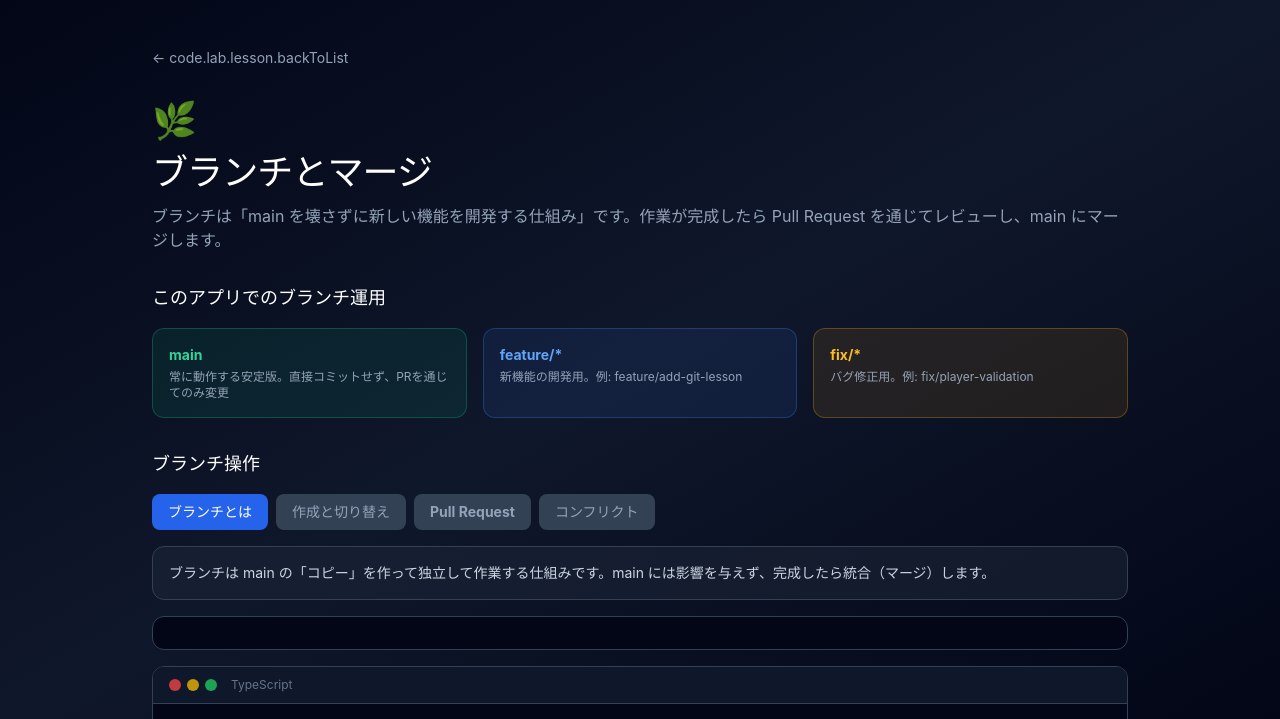
Test case: GitBranchLesson interactions › should switch to Create & Switch view
Click the button "作成と切り替え" at (341, 512), box top-left (276, 494), bottom-right (406, 530)
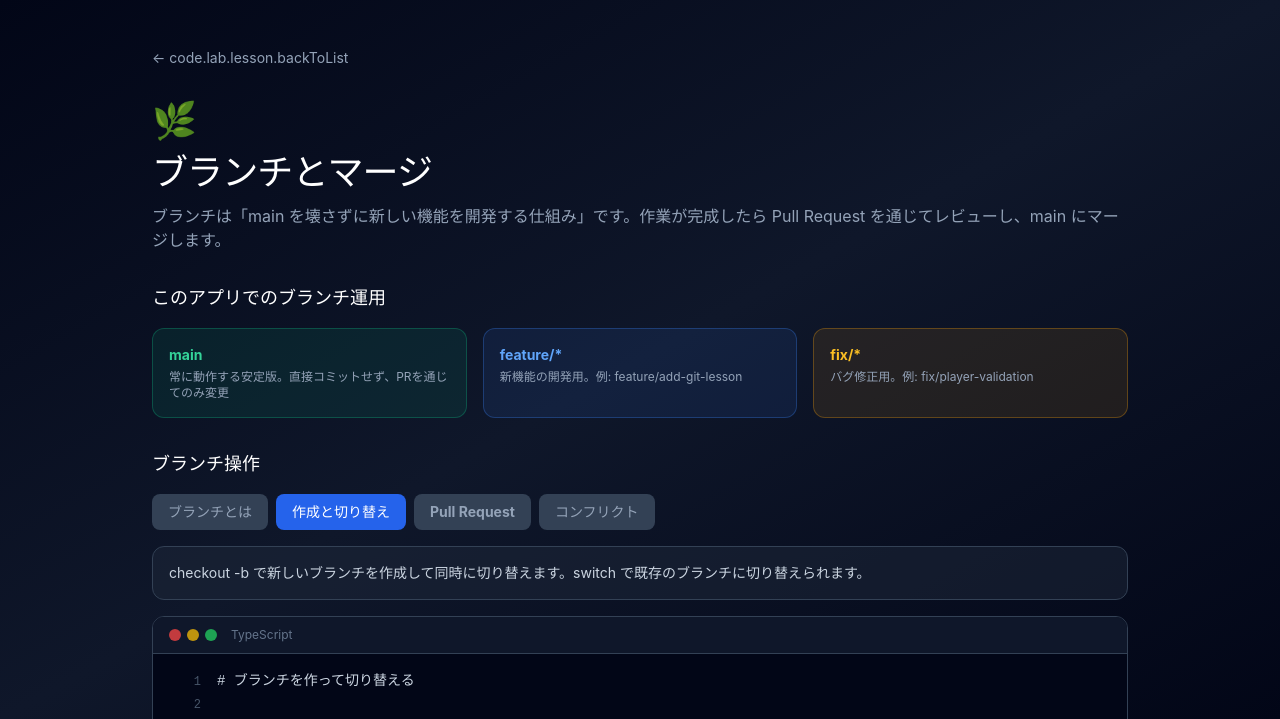
expect the text "checkout -b で新しいブランチを作成して同時に切り替えます。switch で既存のブランチに切り替えられます。" is shown: met, box top-left (169, 564), bottom-right (871, 581)
